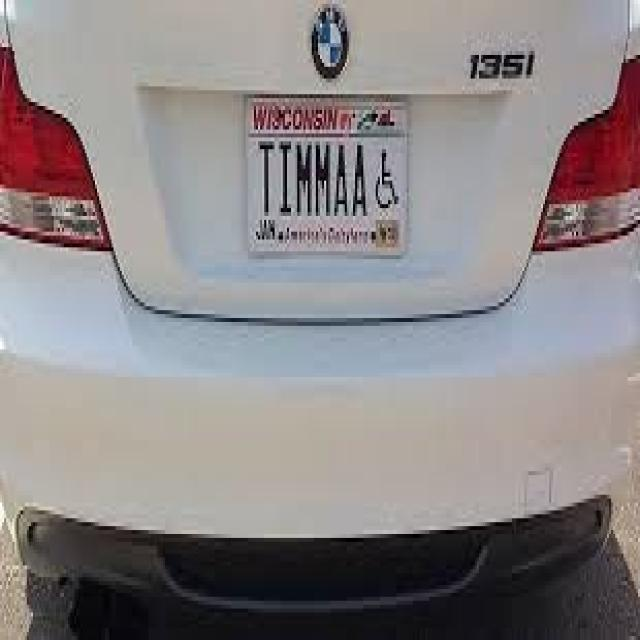car-handicap-placard: (371, 143, 402, 220)
